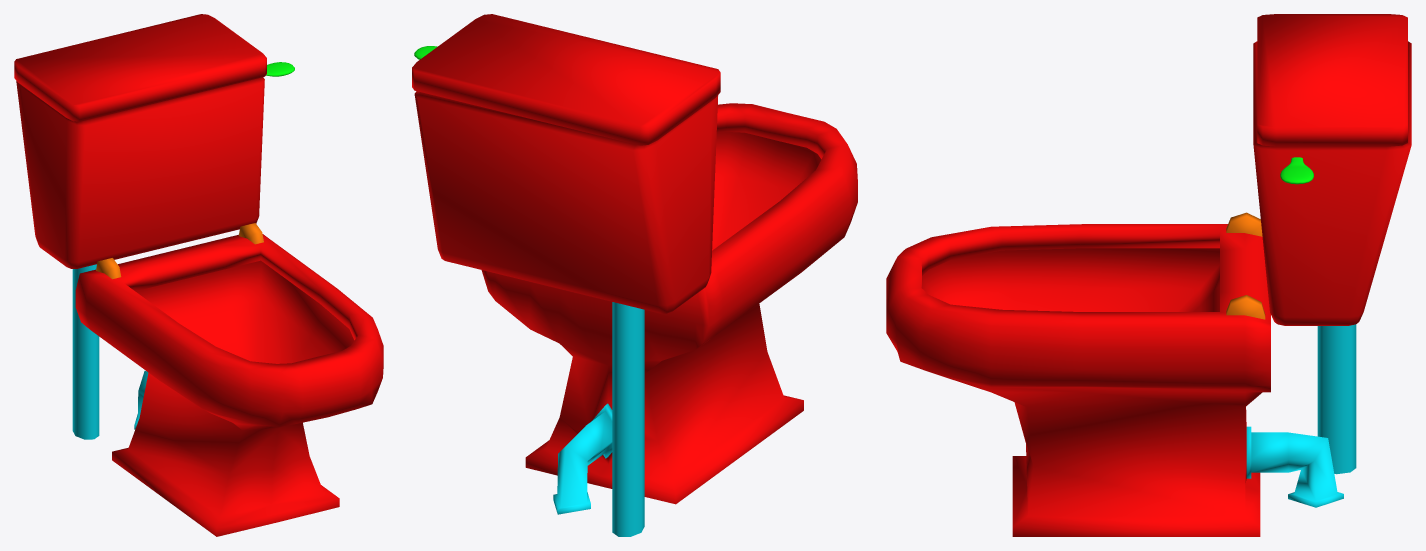
The model's file is Toilet.fbx.
The picture shows the model from 3 angles, left to right: view 1: azimuth 30°, elevation 25°; view 2: azimuth 150°, elevation 25°; view 3: azimuth 270°, elevation 25°; orthographic projection. The views are drawn at different scales.
Parts seen in each view (by area): view 1: Toilet001; view 2: Toilet001; view 3: Toilet001.
Part boxes in pixels (box(x1,y1,x2,y2)): Toilet001: box(14, 14, 383, 536); Toilet001: box(412, 14, 857, 536); Toilet001: box(886, 14, 1411, 536).
Bounding box in the file's own units: 63.19 × 93.08 × 103.
